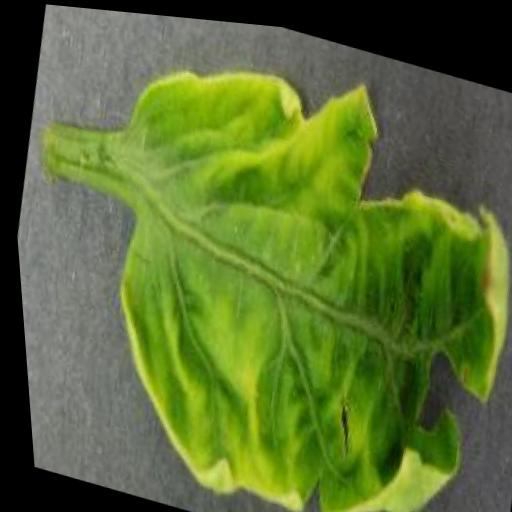Yellow Leaf Curl Virus: (48, 11, 512, 512)
